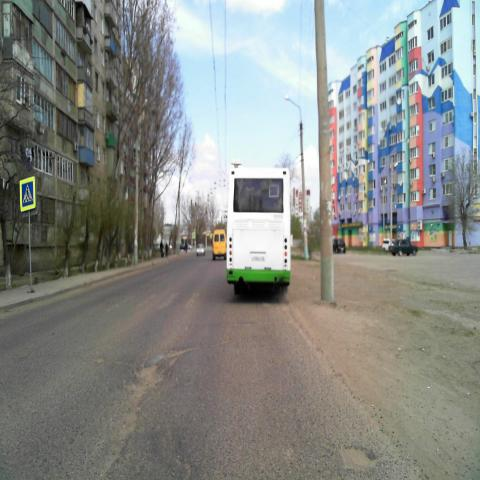5_19_1: (20, 178, 35, 210)
